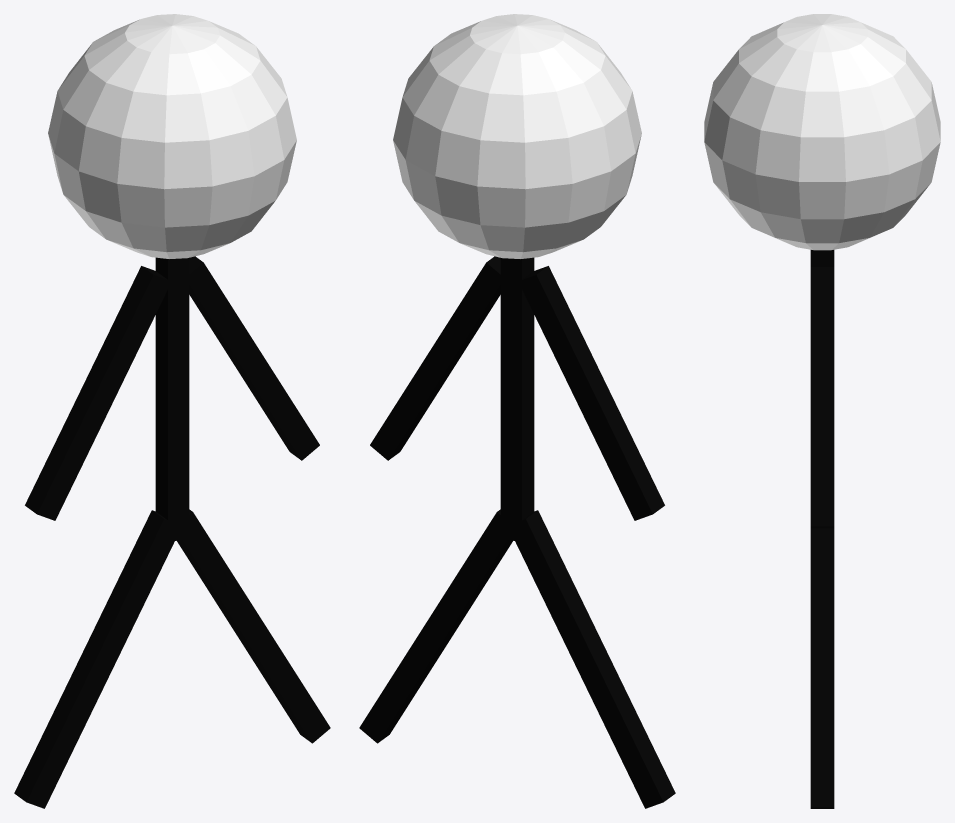
Rendered from stickman.gltf.
The picture shows the model from 3 angles, left to right: view 1: azimuth 30°, elevation 25°; view 2: azimuth 150°, elevation 25°; view 3: azimuth 270°, elevation 25°; orthographic projection. The views are drawn at different scales.
Parts seen in each view (by area): view 1: sphere, cube (×5); view 2: sphere, cube (×5); view 3: sphere, cube (×2).
Part boxes in pixels (bbox=[...]): sphere: bbox=[48, 14, 296, 258]; cube (×5): bbox=[14, 256, 330, 808]; sphere: bbox=[393, 14, 641, 258]; cube (×5): bbox=[359, 256, 675, 808]; sphere: bbox=[704, 14, 940, 250]; cube (×2): bbox=[810, 267, 834, 808].
Size of the model in its own units: 0.8979 by 2.1 by 0.625.
